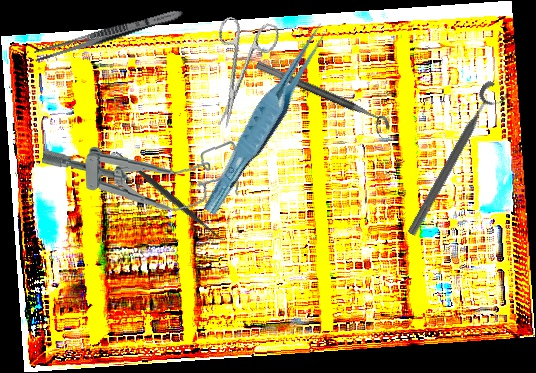Dressing Forceps: (31, 5, 186, 65)
Fixation Ring: (403, 78, 511, 244), (250, 60, 393, 139)
Iris Scissors: (192, 10, 282, 135)
Spatula Surgical: (108, 143, 229, 249)
Speculum: (40, 134, 245, 214)
Tissue Forceps: (189, 21, 345, 217)
